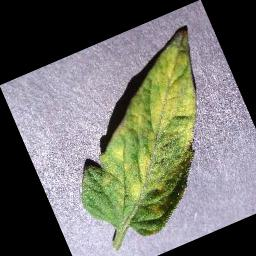Leaf_Mold: (56, 26, 255, 247)
